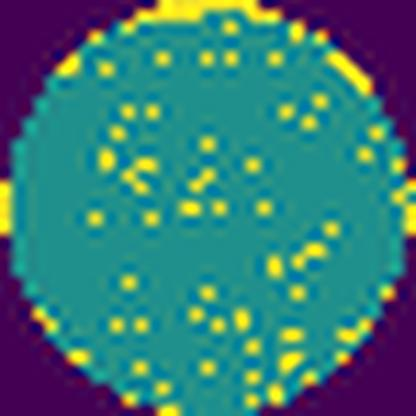Edge-Loc: (114, 0, 285, 39), (322, 44, 384, 111)
